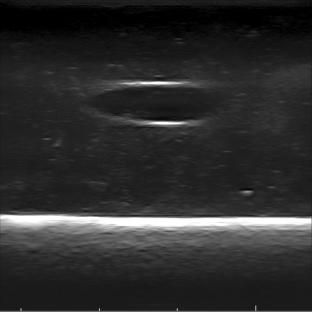vessel: (90, 80, 218, 128)
